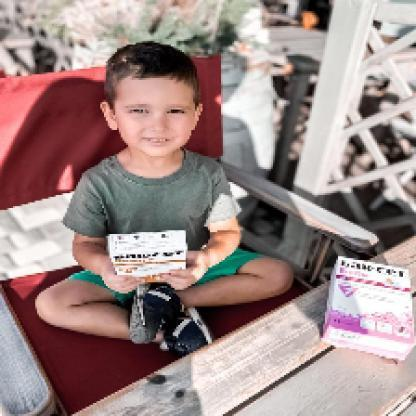child: (35, 42, 295, 358)
